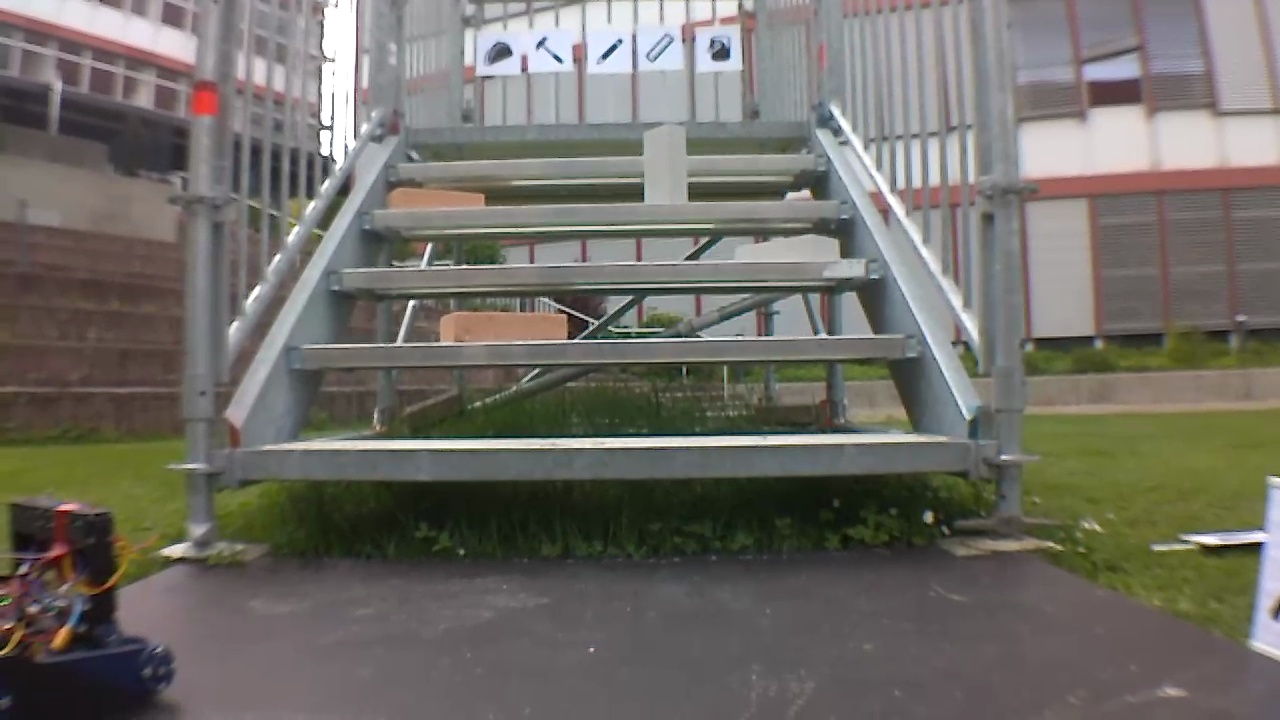brick: (643, 123, 688, 201), (441, 312, 565, 339), (388, 188, 481, 209)
bucket: (703, 31, 735, 65)
edge: (234, 442, 972, 478), (285, 335, 924, 365), (328, 259, 882, 286), (361, 201, 853, 225), (388, 154, 830, 176), (404, 122, 812, 140)
hammer: (532, 31, 565, 68)
pencil: (591, 33, 626, 66)
ruler: (642, 31, 678, 64)
stairs: (171, 3, 1047, 553)
steps: (225, 117, 985, 483)
taco: (478, 37, 516, 71)
